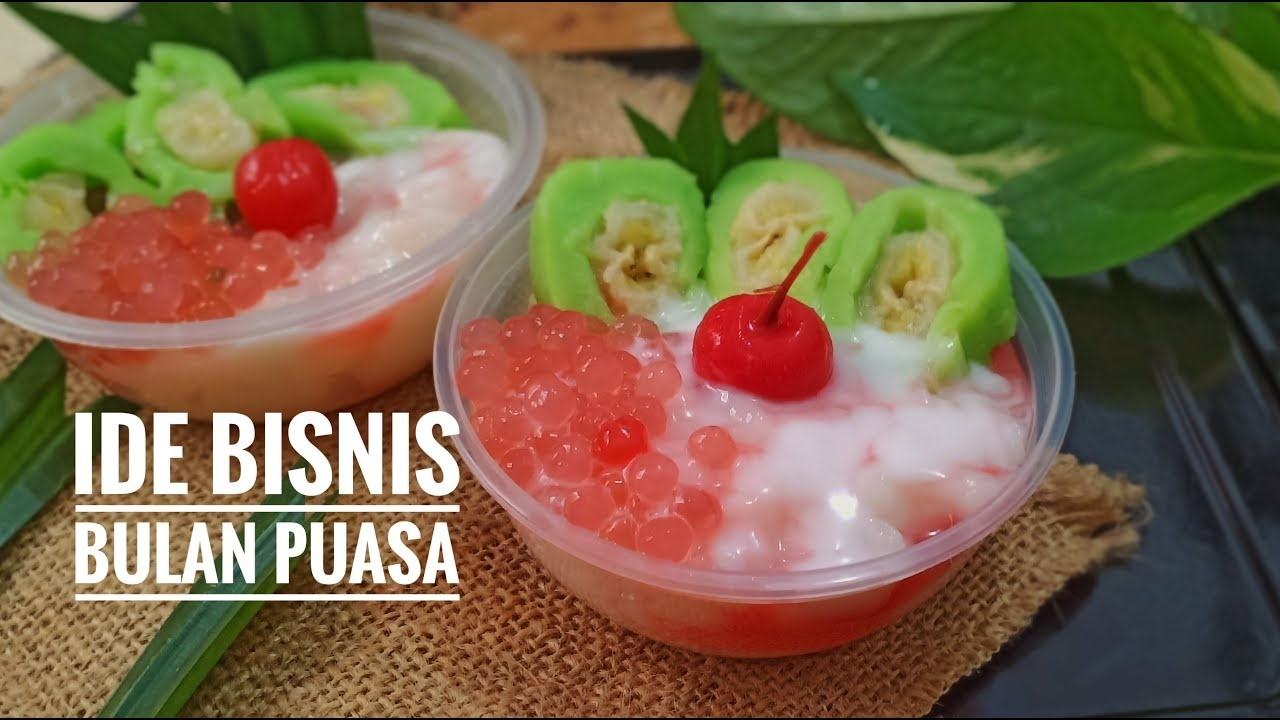es_pisang_ijo: (478, 154, 1027, 560), (5, 50, 477, 323)
